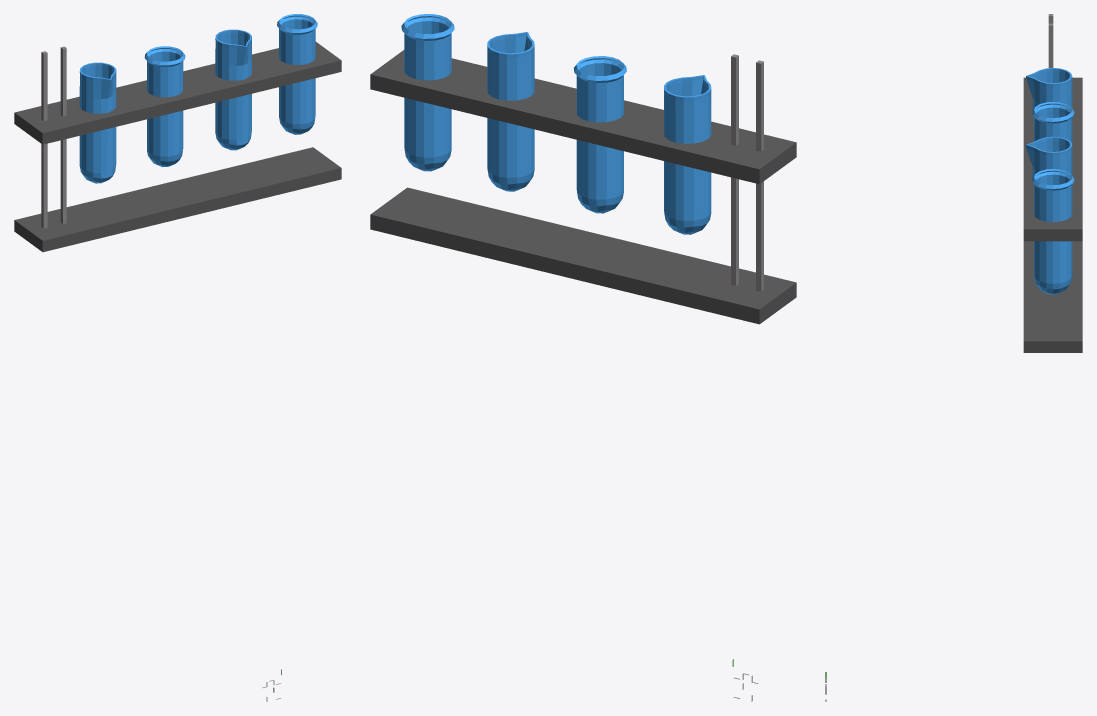
File: probetacolor.fbx
3 renders of one model, left to right at view 1: azimuth 30°, elevation 25°; view 2: azimuth 150°, elevation 25°; view 3: azimuth 270°, elevation 25°, orthographic. The views are drawn at different scales.
Parts seen in each view (by area): view 1: Cube.005, Cube.002, Roundcube.001, Roundcube, Roundcube.003, Roundcube.002, Cube.004, Cube.003; view 2: Cube.005, Cube.002, Roundcube.003, Roundcube.002, Roundcube, Roundcube.001, Cube.004, Cube.003; view 3: Cube.005, Cube.002, Roundcube.003, Roundcube.001, Roundcube.002, Roundcube.
Boxes of the visible parts, x1=… form: Cube.005: x1=14, y1=147, x2=341, y2=252; Cube.002: x1=14, y1=42, x2=341, y2=144; Roundcube.001: x1=79, y1=62, x2=116, y2=183; Roundcube: x1=144, y1=46, x2=185, y2=166; Roundcube.003: x1=277, y1=14, x2=317, y2=134; Roundcube.002: x1=215, y1=29, x2=251, y2=150; Cube.004: x1=41, y1=51, x2=47, y2=228; Cube.003: x1=60, y1=46, x2=66, y2=223; Cube.005: x1=370, y1=187, x2=796, y2=324; Cube.002: x1=370, y1=50, x2=796, y2=184; Roundcube.003: x1=401, y1=14, x2=454, y2=171; Roundcube.002: x1=487, y1=32, x2=534, y2=191; Roundcube: x1=573, y1=56, x2=626, y2=213; Roundcube.001: x1=664, y1=75, x2=711, y2=234; Cube.004: x1=756, y1=60, x2=763, y2=291; Cube.003: x1=731, y1=54, x2=738, y2=285; Cube.005: x1=1023, y1=241, x2=1082, y2=352; Cube.002: x1=1023, y1=77, x2=1082, y2=241; Roundcube.003: x1=1032, y1=169, x2=1074, y2=294; Roundcube.001: x1=1026, y1=68, x2=1072, y2=108; Roundcube.002: x1=1026, y1=136, x2=1072, y2=176; Roundcube: x1=1031, y1=102, x2=1074, y2=143.
Bounding box in the file's own units: 189 × 362 × 136.
